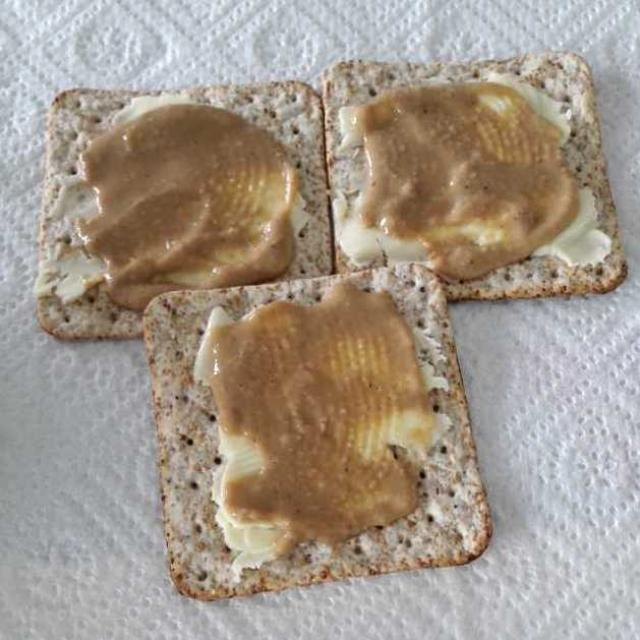butter: (63, 84, 589, 572), (69, 75, 599, 548)
